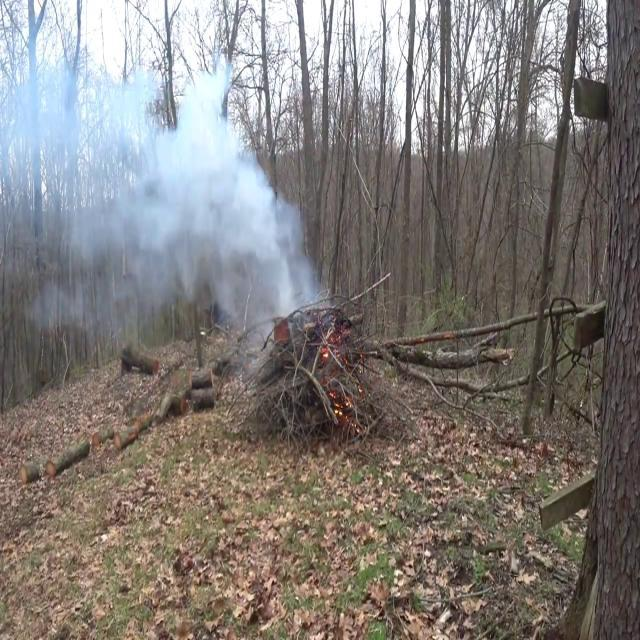Smoke: (3, 37, 316, 352)
